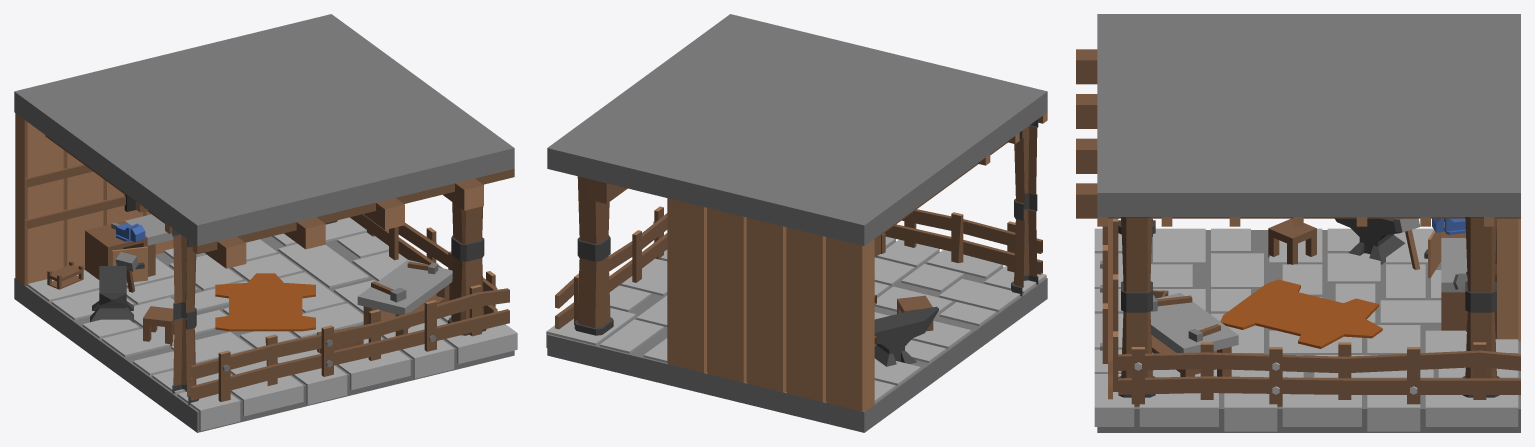
The model's file is WeaponWorkshop_Lvl_01_CornerRight.fbx.
3 views of the same model, side by side, from view 1: azimuth 30°, elevation 25°; view 2: azimuth 150°, elevation 25°; view 3: azimuth 270°, elevation 25° (orthographic). The views are drawn at different scales.
Parts seen in each view (by area): view 1: WeaponWorkshop_Lvl_01_CornerRight; view 2: WeaponWorkshop_Lvl_01_CornerRight; view 3: WeaponWorkshop_Lvl_01_CornerRight.
Part boxes in pixels (x1,y1,x2,y2): WeaponWorkshop_Lvl_01_CornerRight: [14, 14, 517, 432]; WeaponWorkshop_Lvl_01_CornerRight: [546, 14, 1047, 432]; WeaponWorkshop_Lvl_01_CornerRight: [1076, 14, 1520, 432].
Size of the model in its own units: 8.05 by 5 by 8.4.
